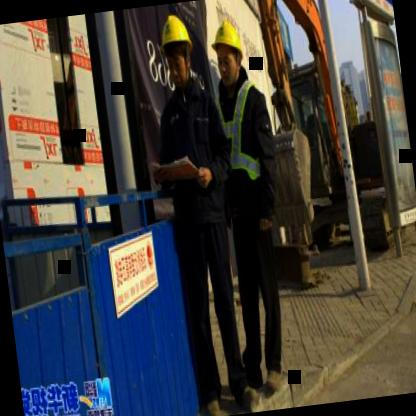helmet: (156, 4, 199, 90), (206, 12, 250, 90)
